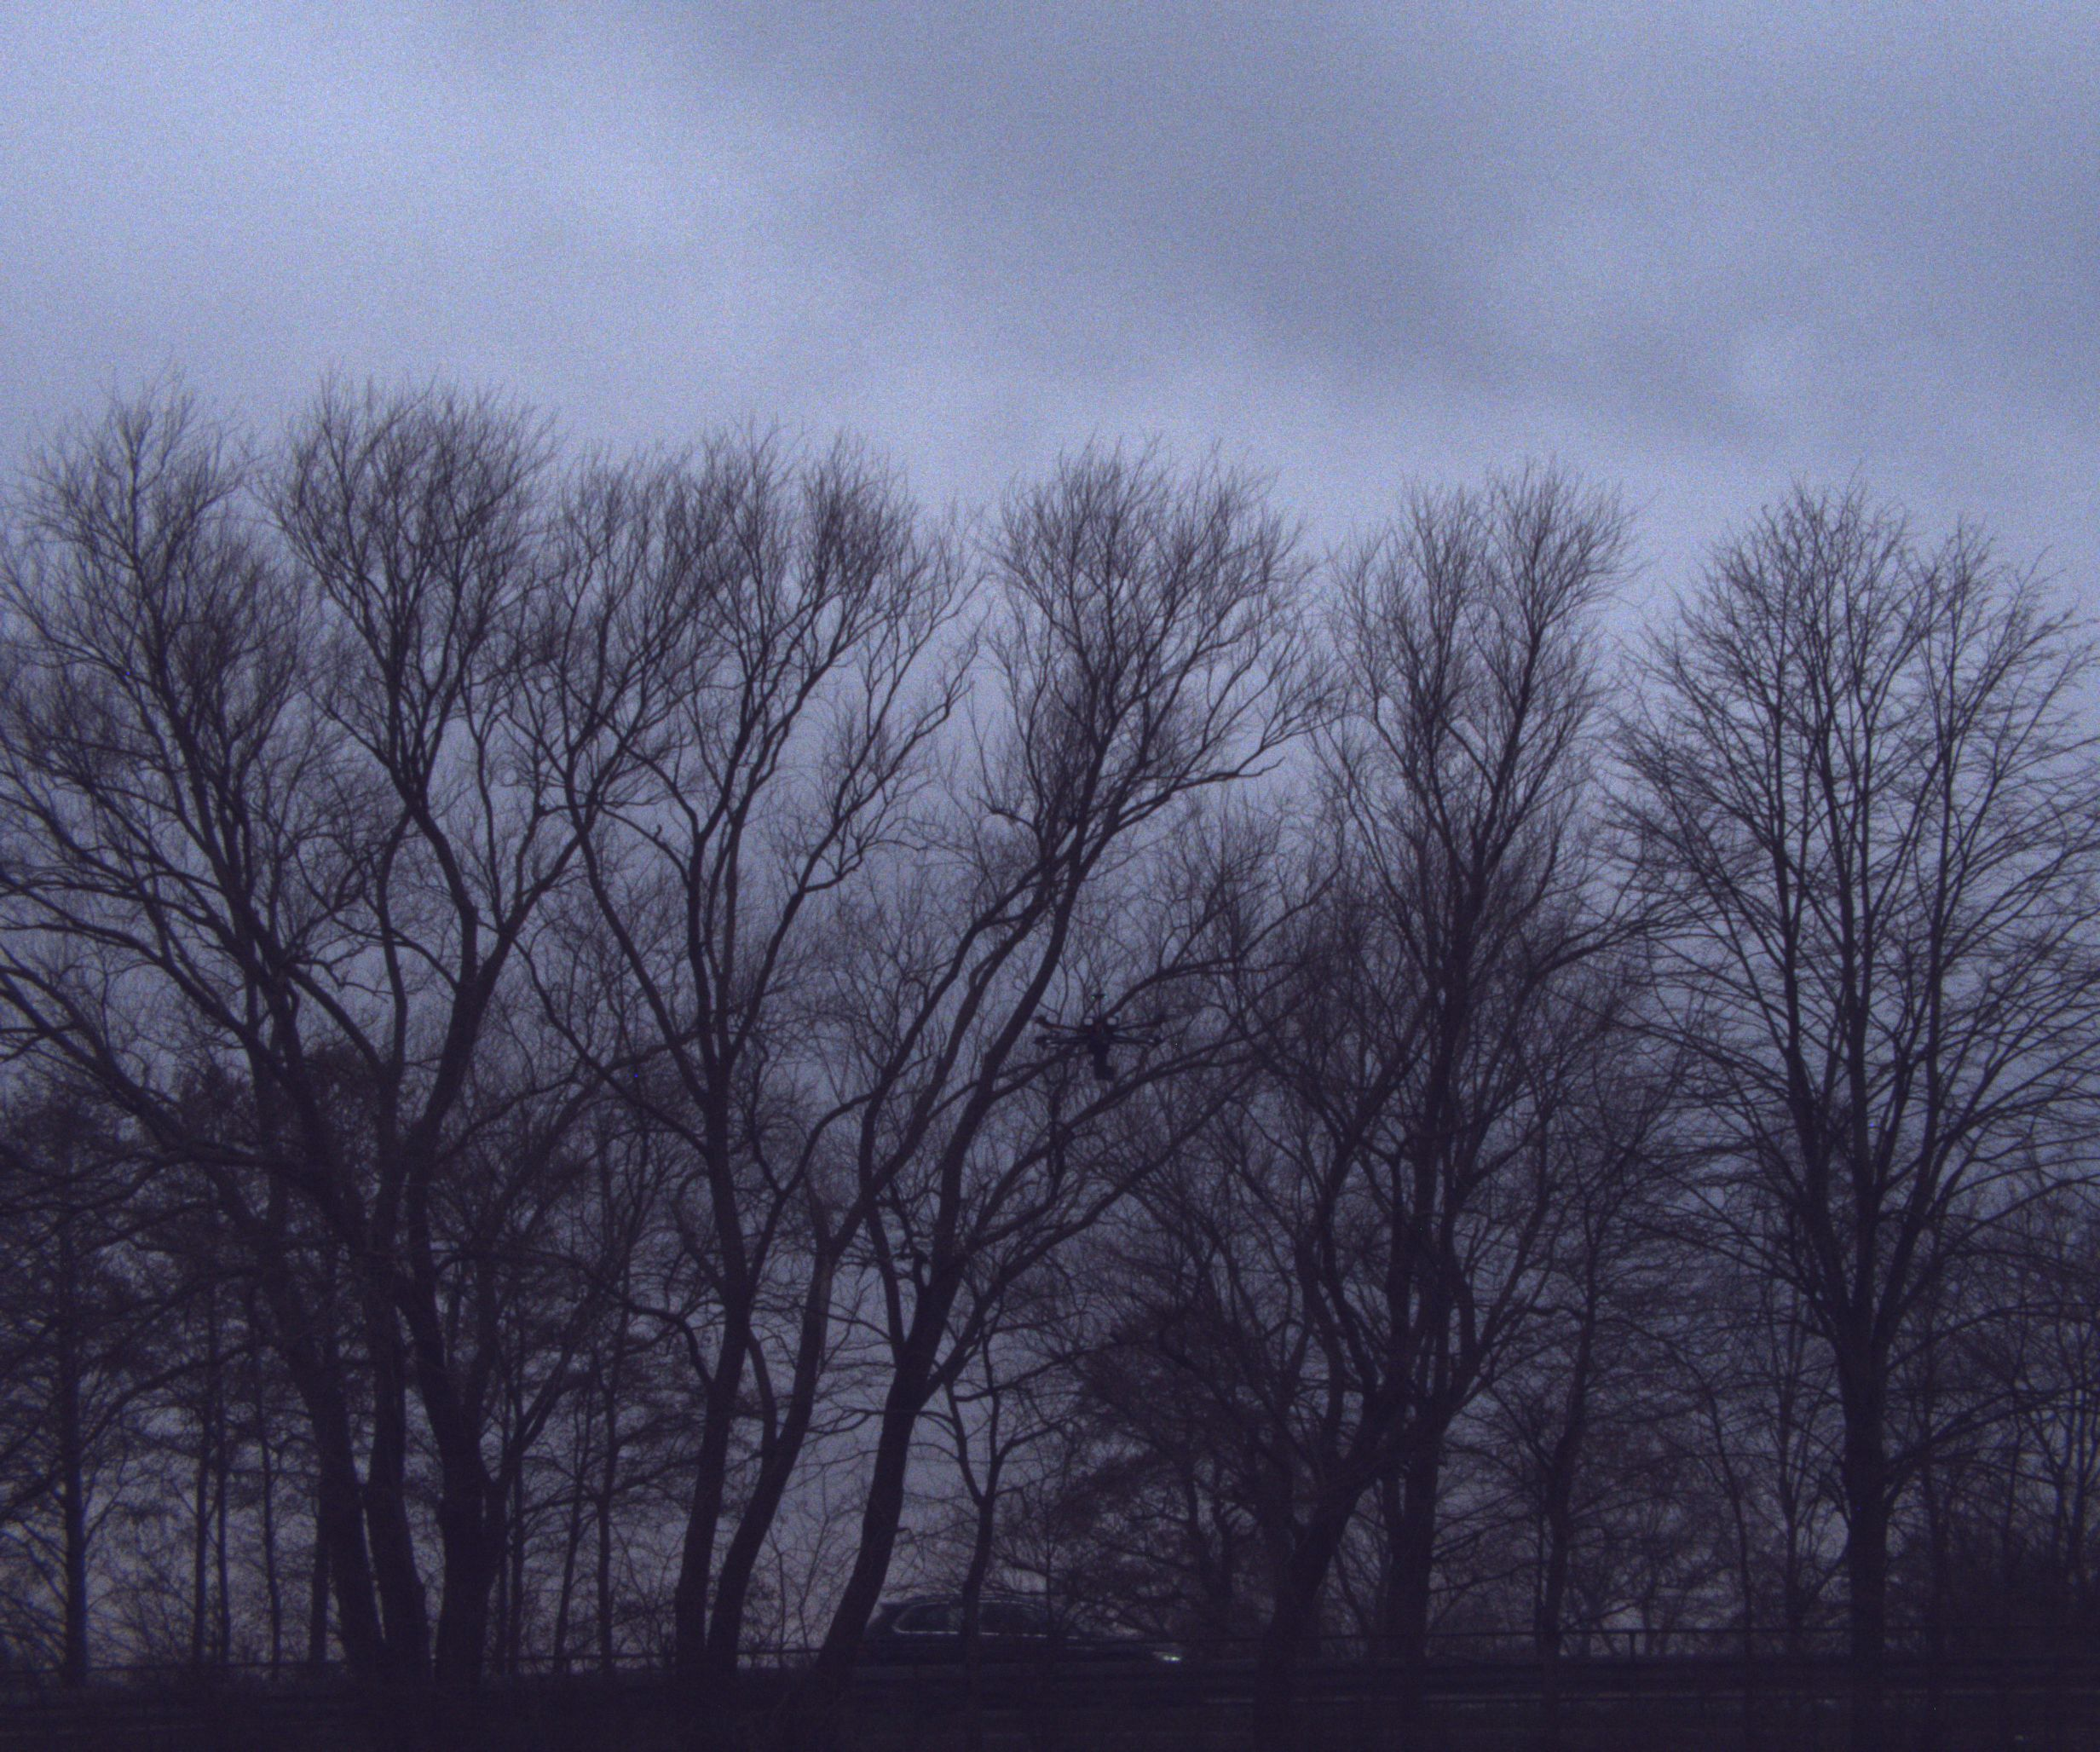Drohne: (977, 969, 1228, 1144)
